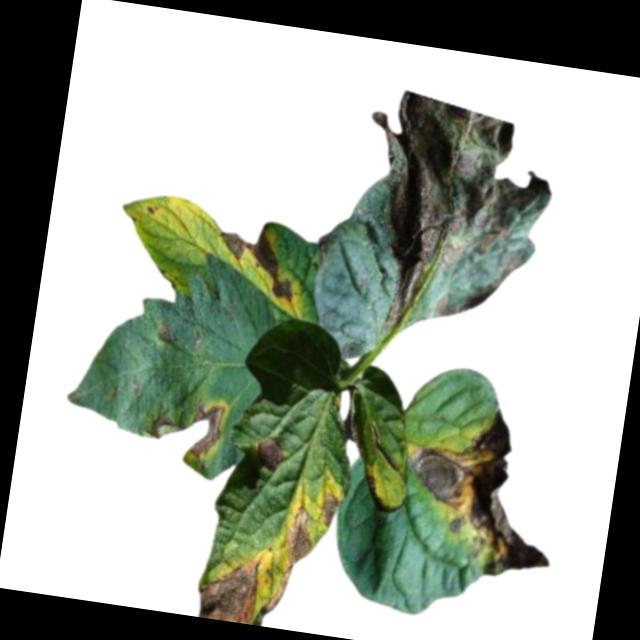Early_blight: (340, 84, 569, 354), (397, 396, 574, 581), (193, 495, 322, 631), (211, 223, 303, 308), (145, 391, 230, 469), (253, 433, 290, 474), (319, 490, 343, 529), (154, 322, 177, 345), (312, 231, 333, 256)
